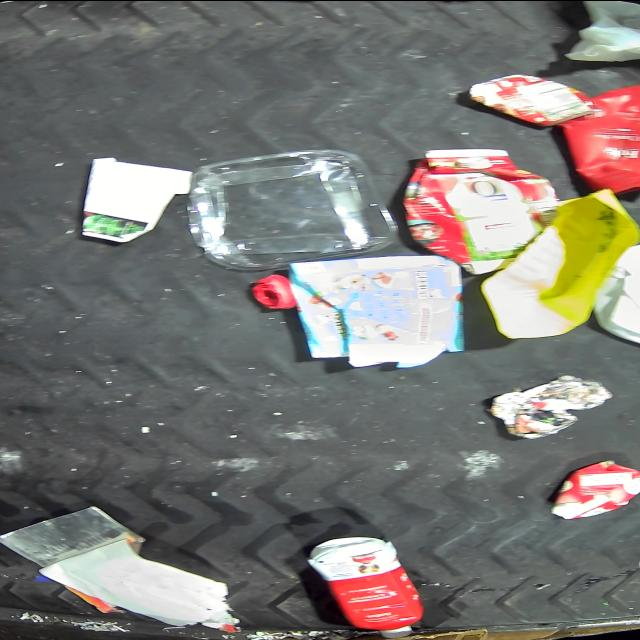milk_jug: (594, 238, 640, 348), (565, 0, 640, 60)
non_white_jug: (483, 190, 639, 337), (289, 255, 465, 368), (403, 148, 559, 274), (308, 535, 424, 633), (564, 82, 640, 194), (551, 462, 640, 520)
